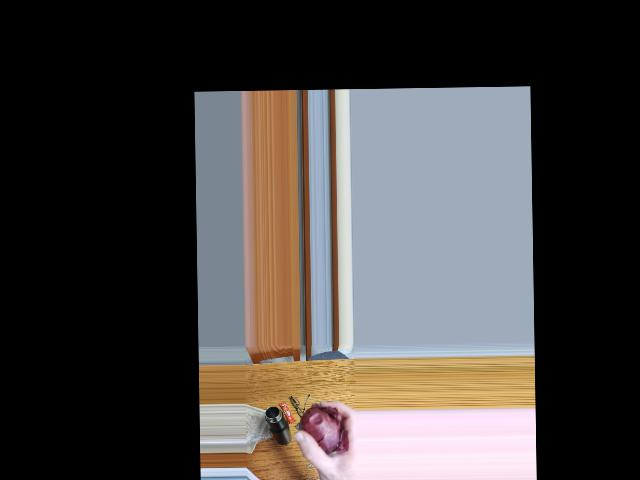onion: (299, 407, 343, 454)
